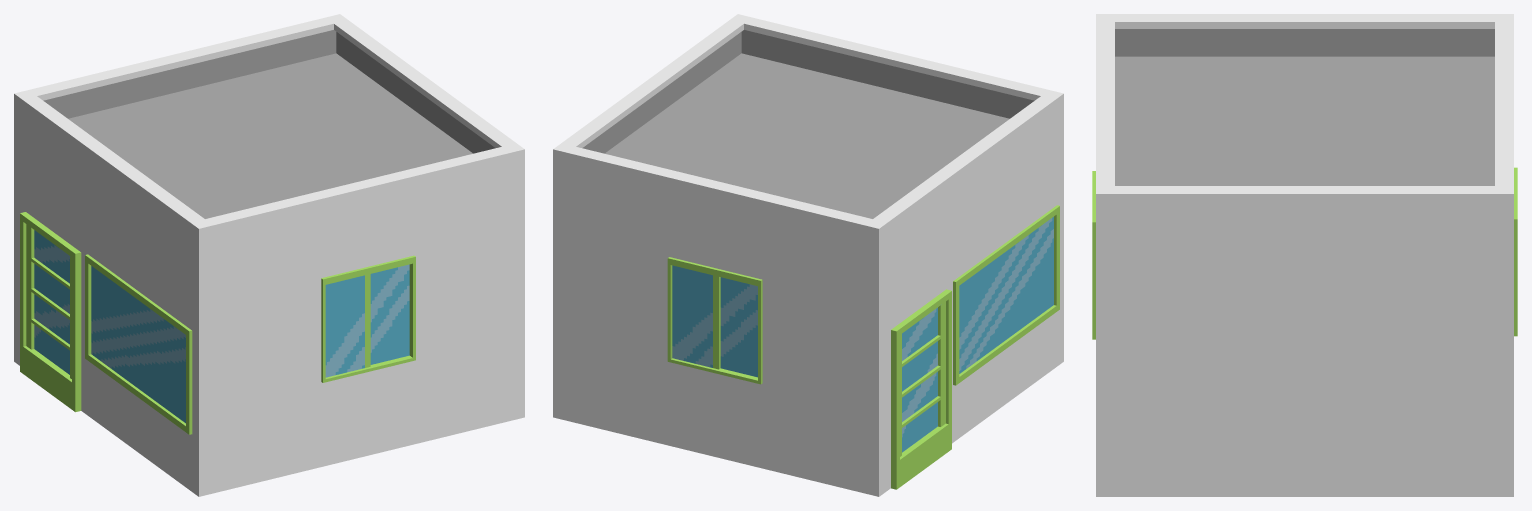
File: ApartmentStudio.fbx
The picture shows the model from 3 angles, left to right: view 1: azimuth 30°, elevation 25°; view 2: azimuth 150°, elevation 25°; view 3: azimuth 270°, elevation 25°; orthographic projection. The views are drawn at different scales.
Parts seen in each view (by area): view 1: ApartmentStudio; view 2: ApartmentStudio; view 3: ApartmentStudio.
Part boxes in pixels (left/top/right/bottom): ApartmentStudio: left=14, top=14, right=524, bottom=496; ApartmentStudio: left=553, top=14, right=1063, bottom=496; ApartmentStudio: left=1092, top=14, right=1517, bottom=496.
Bounding box in the file's own units: 342 × 267 × 336.
